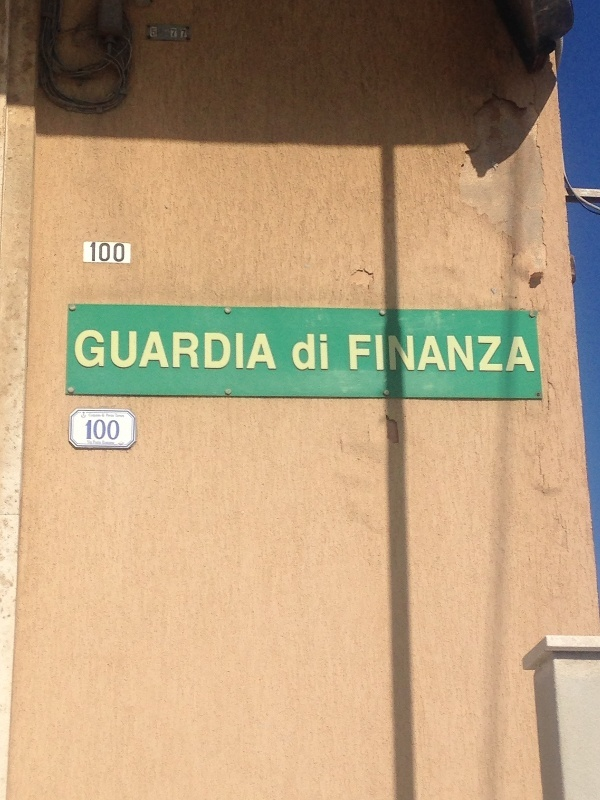text: (81, 329, 96, 372), (97, 329, 112, 372), (113, 329, 128, 372), (129, 329, 144, 372), (145, 329, 160, 372), (161, 329, 176, 372), (177, 329, 192, 372), (193, 329, 208, 372), (209, 329, 224, 372), (225, 329, 240, 372), (241, 329, 256, 372), (257, 329, 272, 372), (353, 333, 368, 374), (369, 333, 384, 374), (385, 333, 400, 374), (401, 333, 416, 374), (417, 333, 432, 374), (433, 333, 448, 374), (449, 333, 464, 374), (465, 333, 480, 374), (481, 333, 496, 374), (497, 333, 512, 374), (513, 333, 528, 374), (305, 333, 320, 372), (529, 333, 538, 374), (321, 333, 330, 372), (97, 242, 112, 263), (97, 420, 112, 441), (296, 333, 304, 372), (273, 329, 280, 372), (113, 242, 125, 263), (75, 329, 80, 372), (86, 420, 96, 441), (348, 333, 352, 374), (113, 420, 120, 441), (90, 242, 96, 263), (181, 29, 192, 38), (151, 28, 160, 37), (171, 28, 176, 38)
